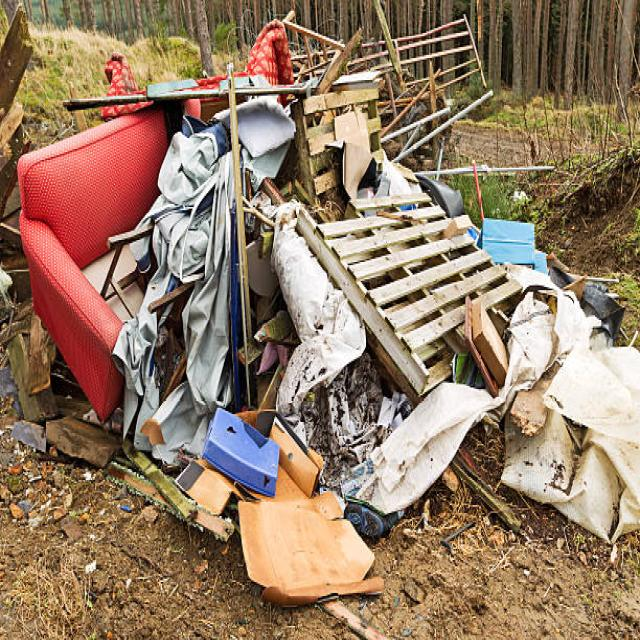cardboard: (234, 511, 387, 609)
trash: (81, 62, 588, 500)
